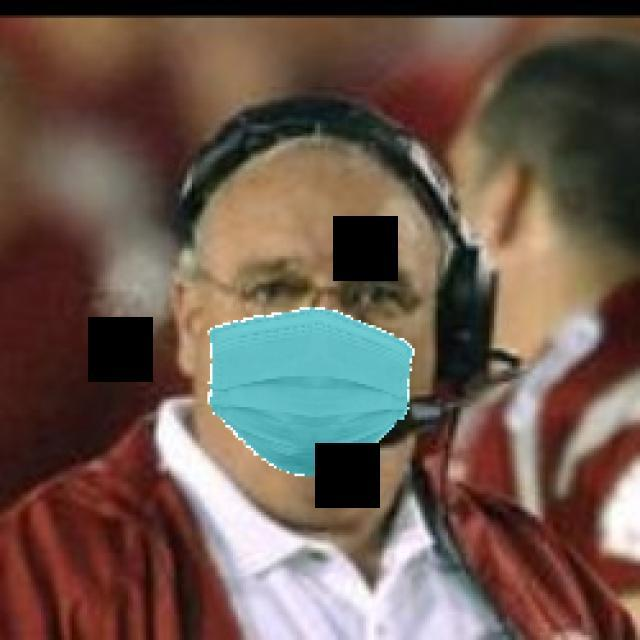surgical: (188, 206, 444, 474)
